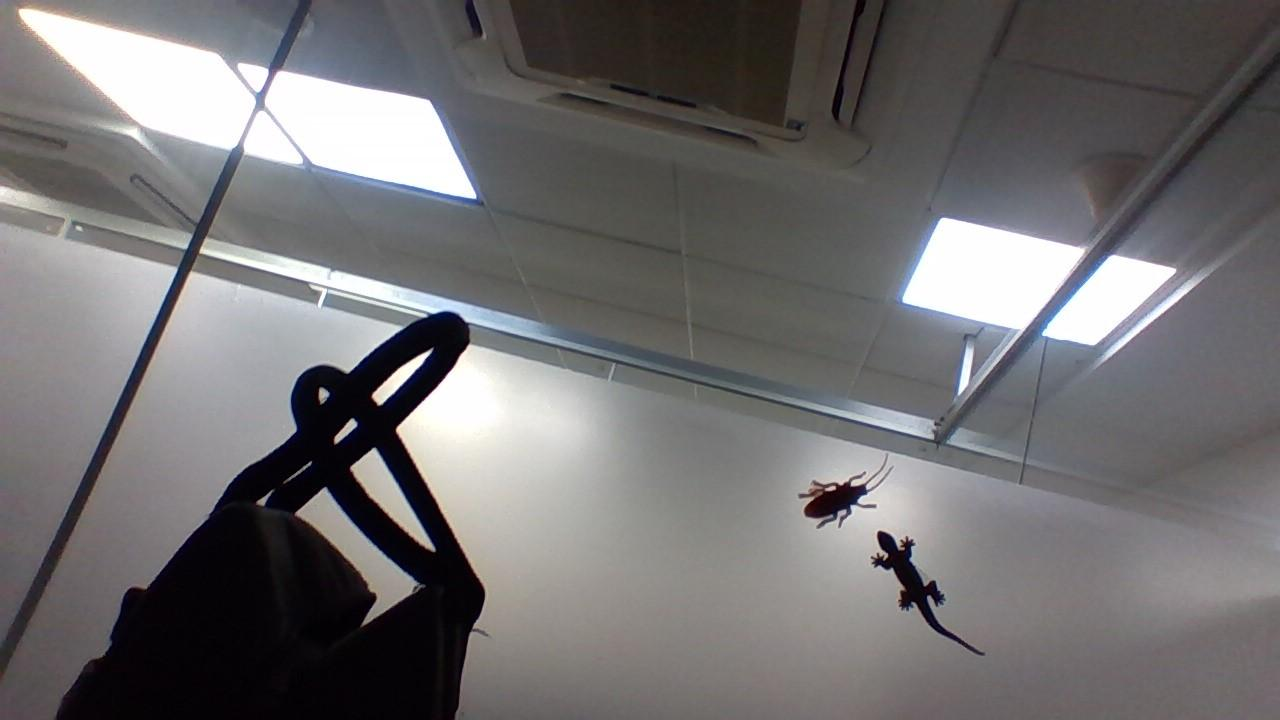cockroach: (785, 457, 891, 529)
lizard: (870, 519, 997, 665)
